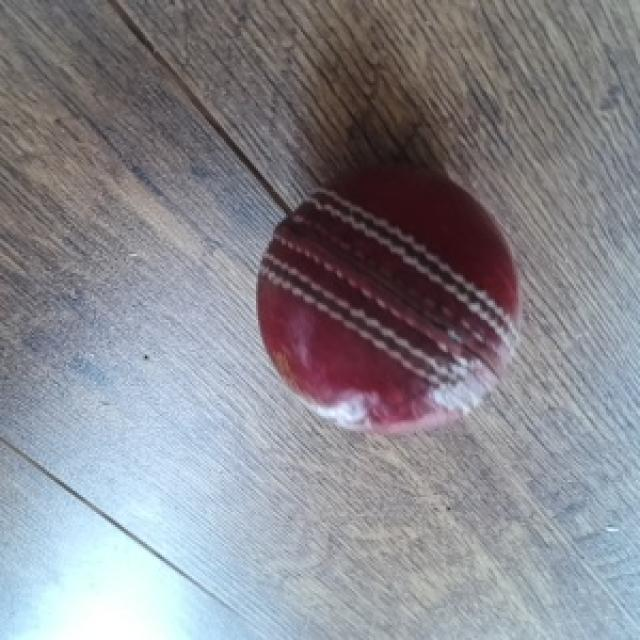ball: (256, 164, 523, 439)
